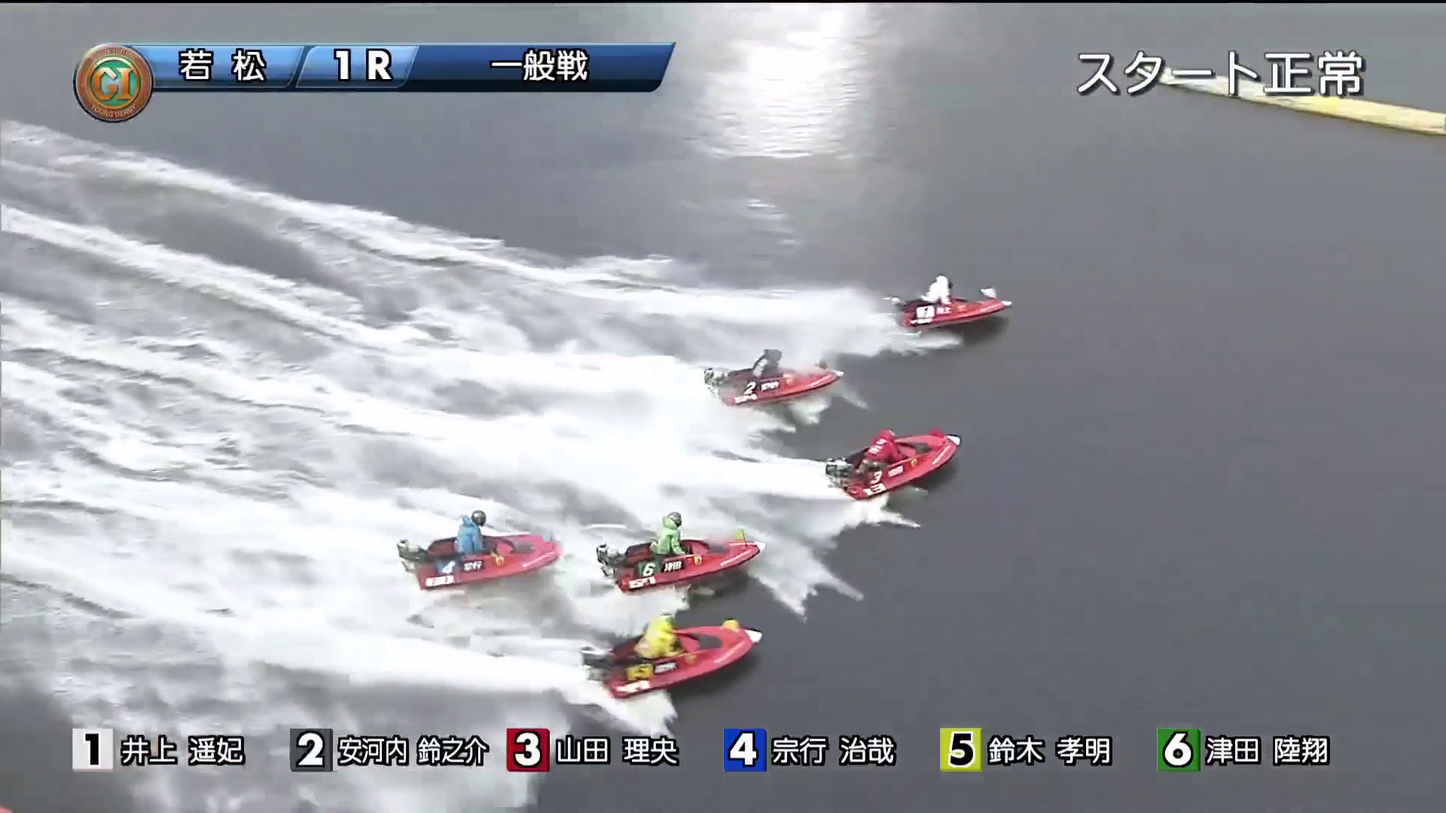１号艇: (907, 283, 1044, 336)
２号艇: (703, 351, 832, 412)
３号艇: (841, 444, 982, 491)
４号艇: (626, 519, 746, 584)
５号艇: (408, 529, 532, 584)
６号艇: (633, 636, 732, 693)
